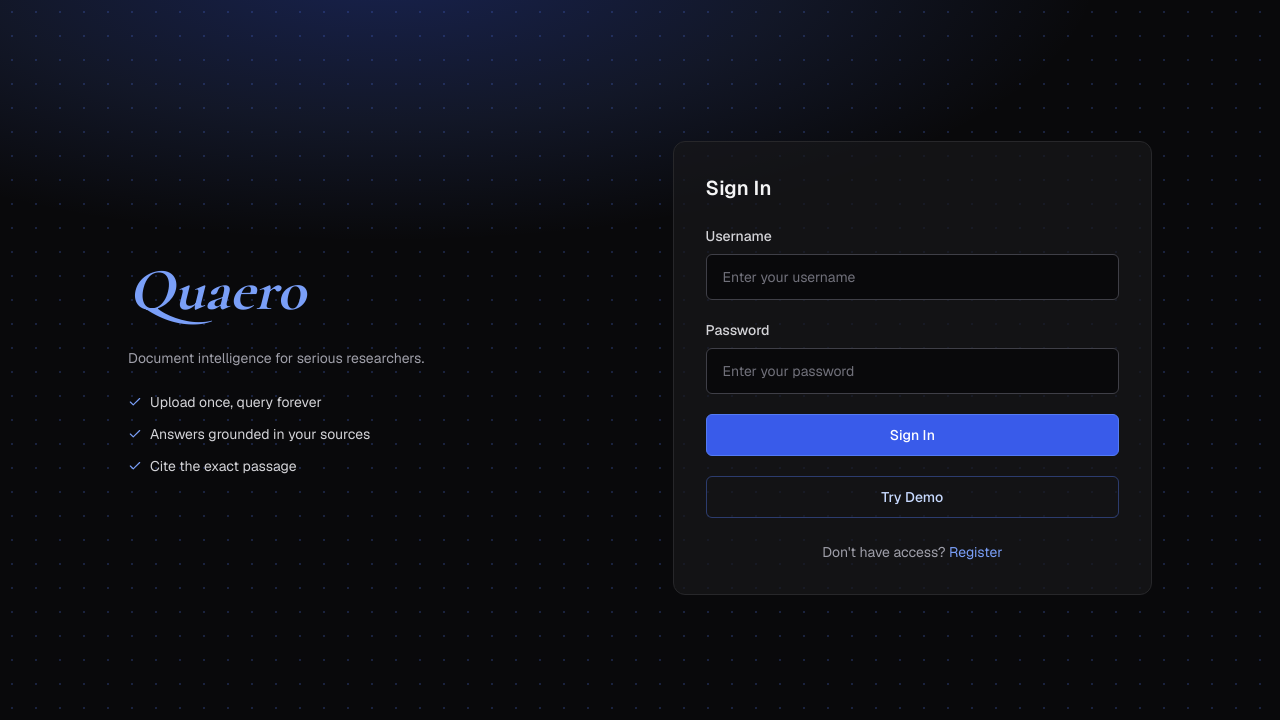
Scenario: LoginPage form behavior › logs in with demo credentials from the Try Demo button
Click the button "Try Demo".
click(912, 497)  # box [706,476,1119,518]
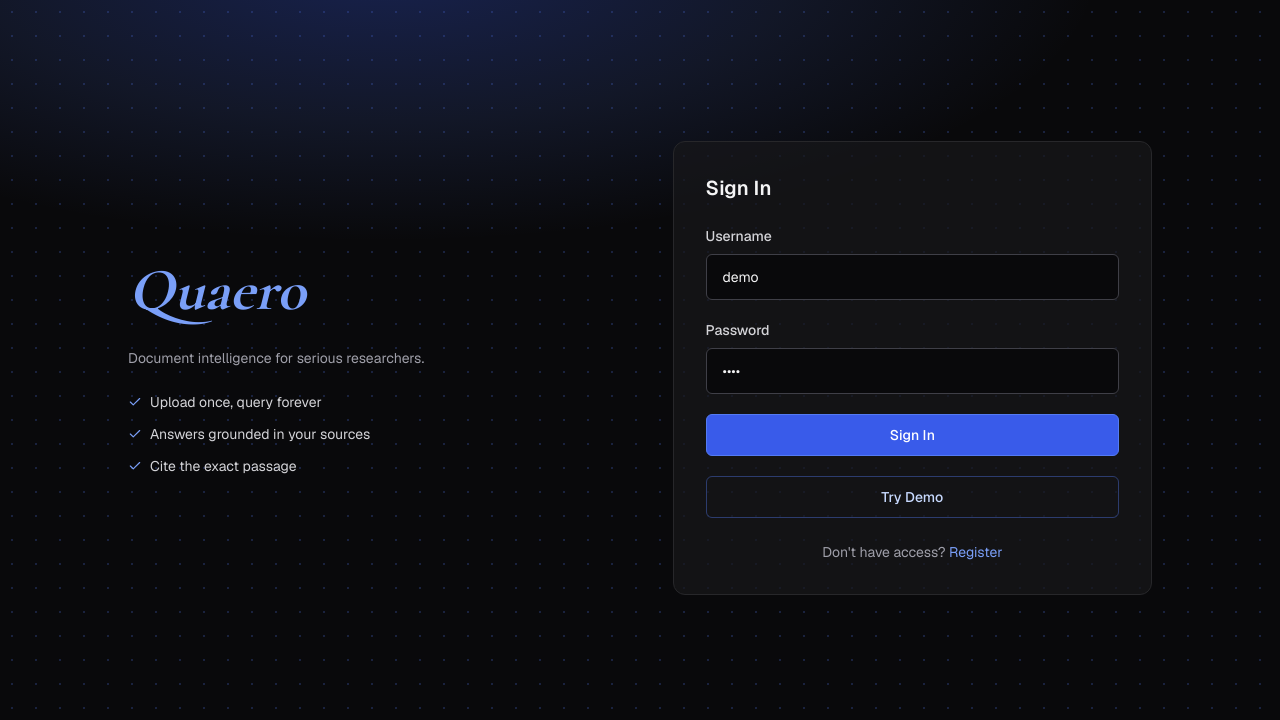
Result: the field labelled "Username" holds "demo" at [706,254,1119,300]
Result: the password field labelled "Password" holds "demo" at [706,348,1119,394]
